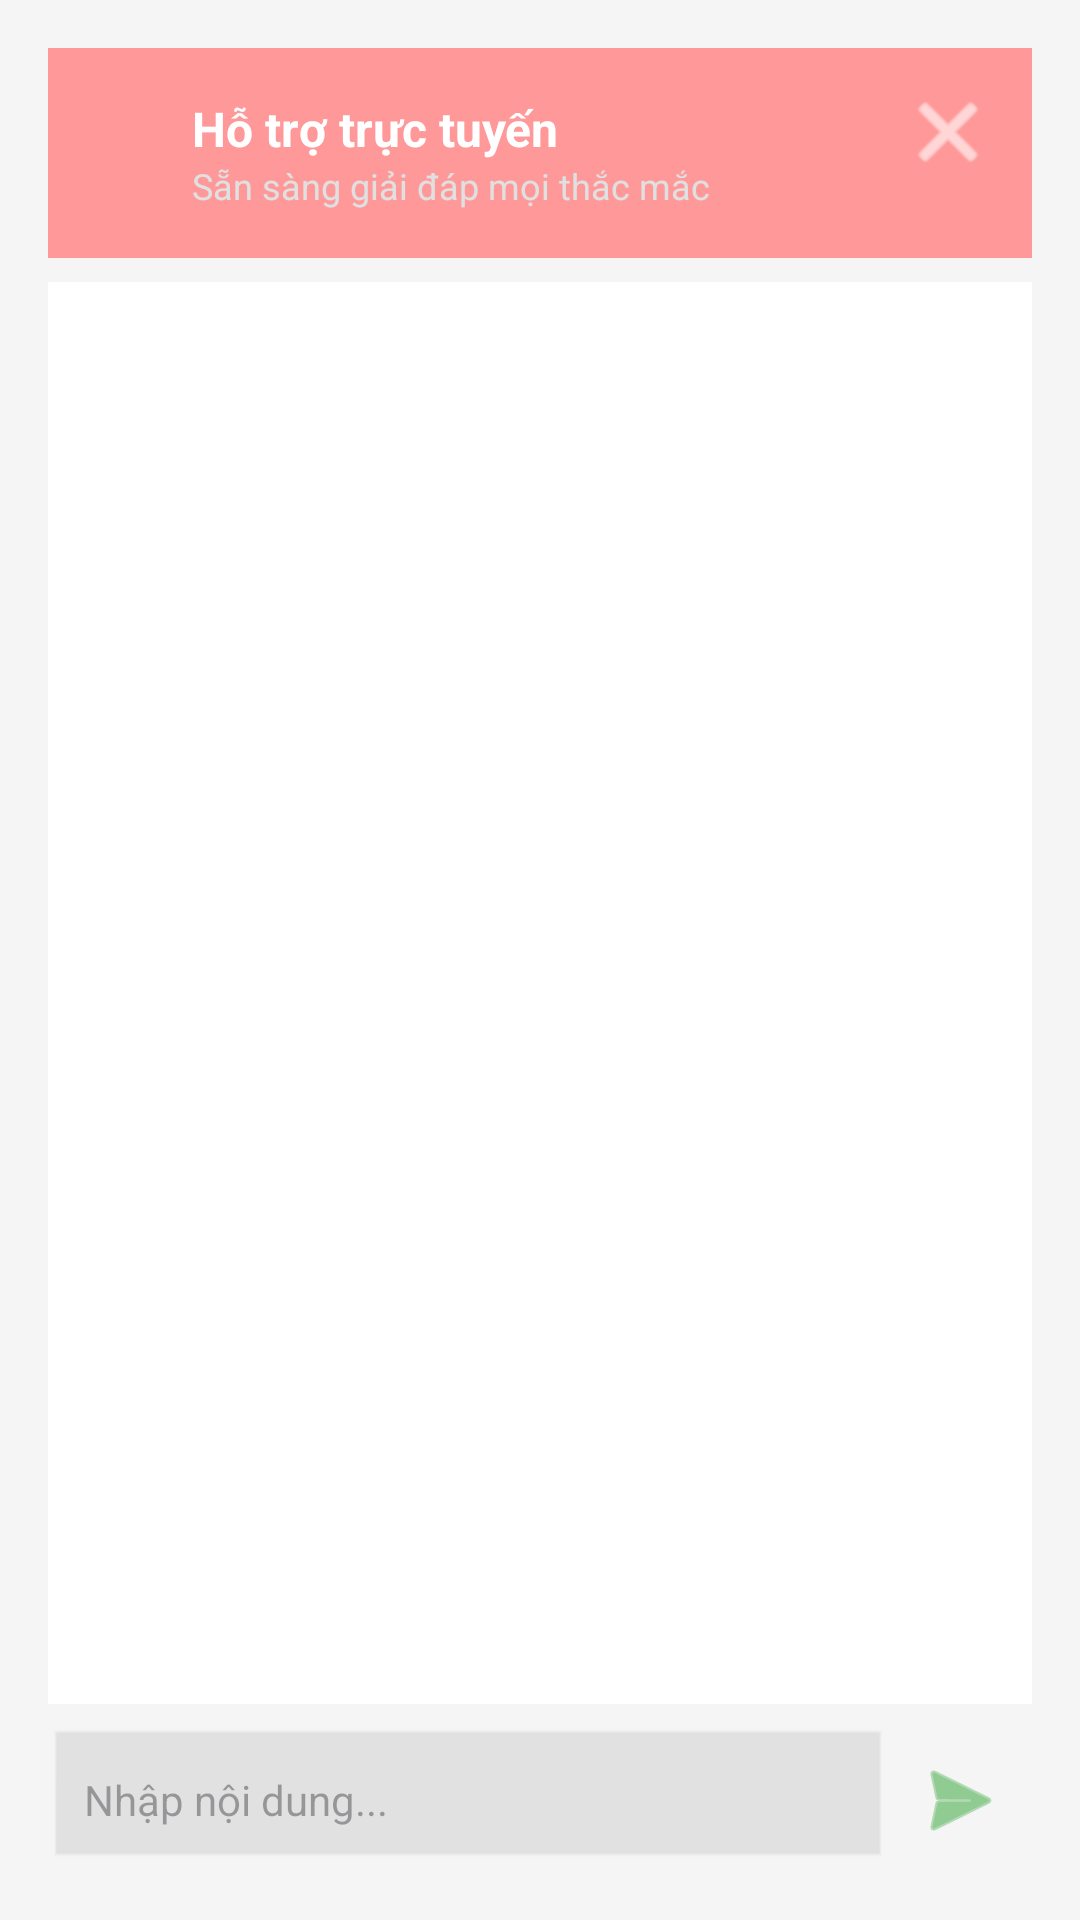

Icons on this 1080px x 1920px Android screen, each with its box as (left=x1, top=y1, right=x2, bottom=y2):
close clear cancel: (left=919, top=103, right=977, bottom=161)
send: (left=930, top=1770, right=991, bottom=1831)
